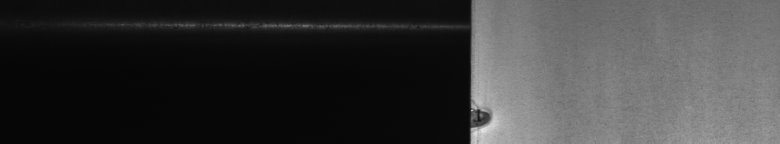hb: (480, 100, 499, 134)
